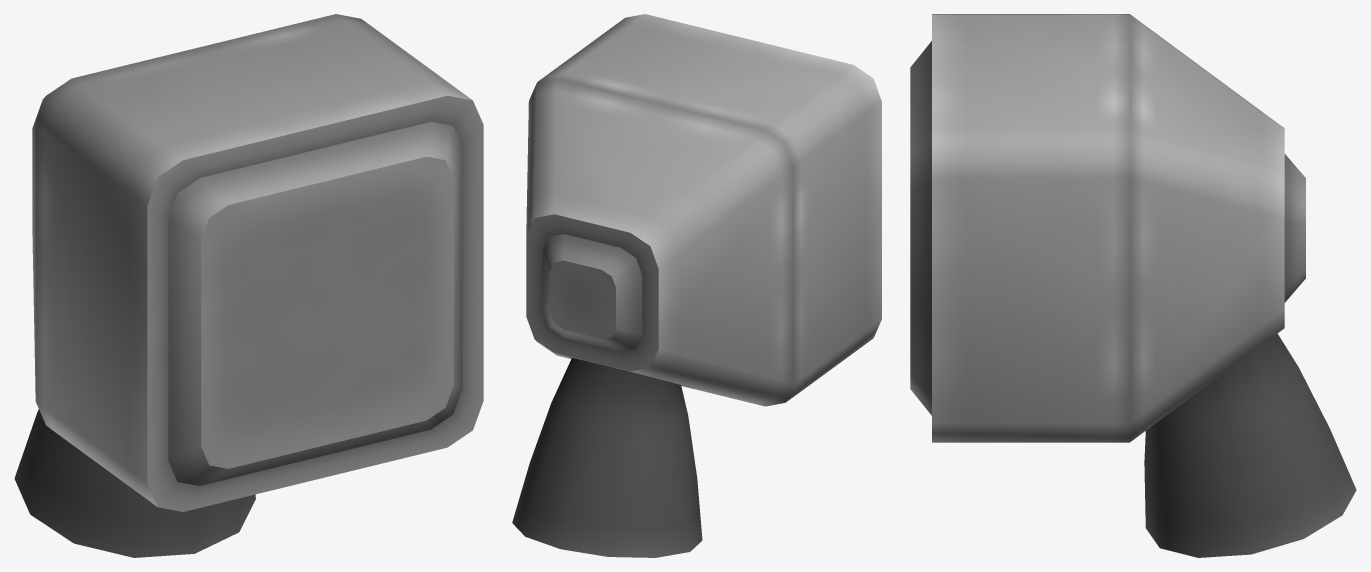
The model's file is Tantares_RCS_4.obj.
The picture shows the model from 3 angles, left to right: view 1: azimuth 30°, elevation 25°; view 2: azimuth 150°, elevation 25°; view 3: azimuth 270°, elevation 25°; orthographic projection. The views are drawn at different scales.
Parts seen in each view (by area): view 1: Tantares_RCS_4; view 2: Tantares_RCS_4; view 3: Tantares_RCS_4.
Part boxes in pixels (bbox=[...]): Tantares_RCS_4: bbox=[14, 14, 483, 557]; Tantares_RCS_4: bbox=[512, 14, 881, 557]; Tantares_RCS_4: bbox=[910, 14, 1356, 557].
Bounding box in the file's own units: 0.1 × 0.1461 × 0.1297.
